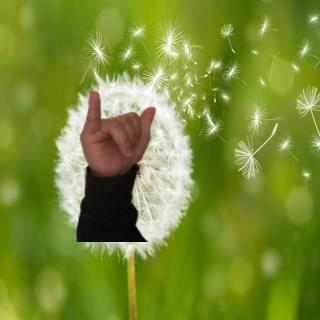HAVE: (75, 84, 161, 179)
